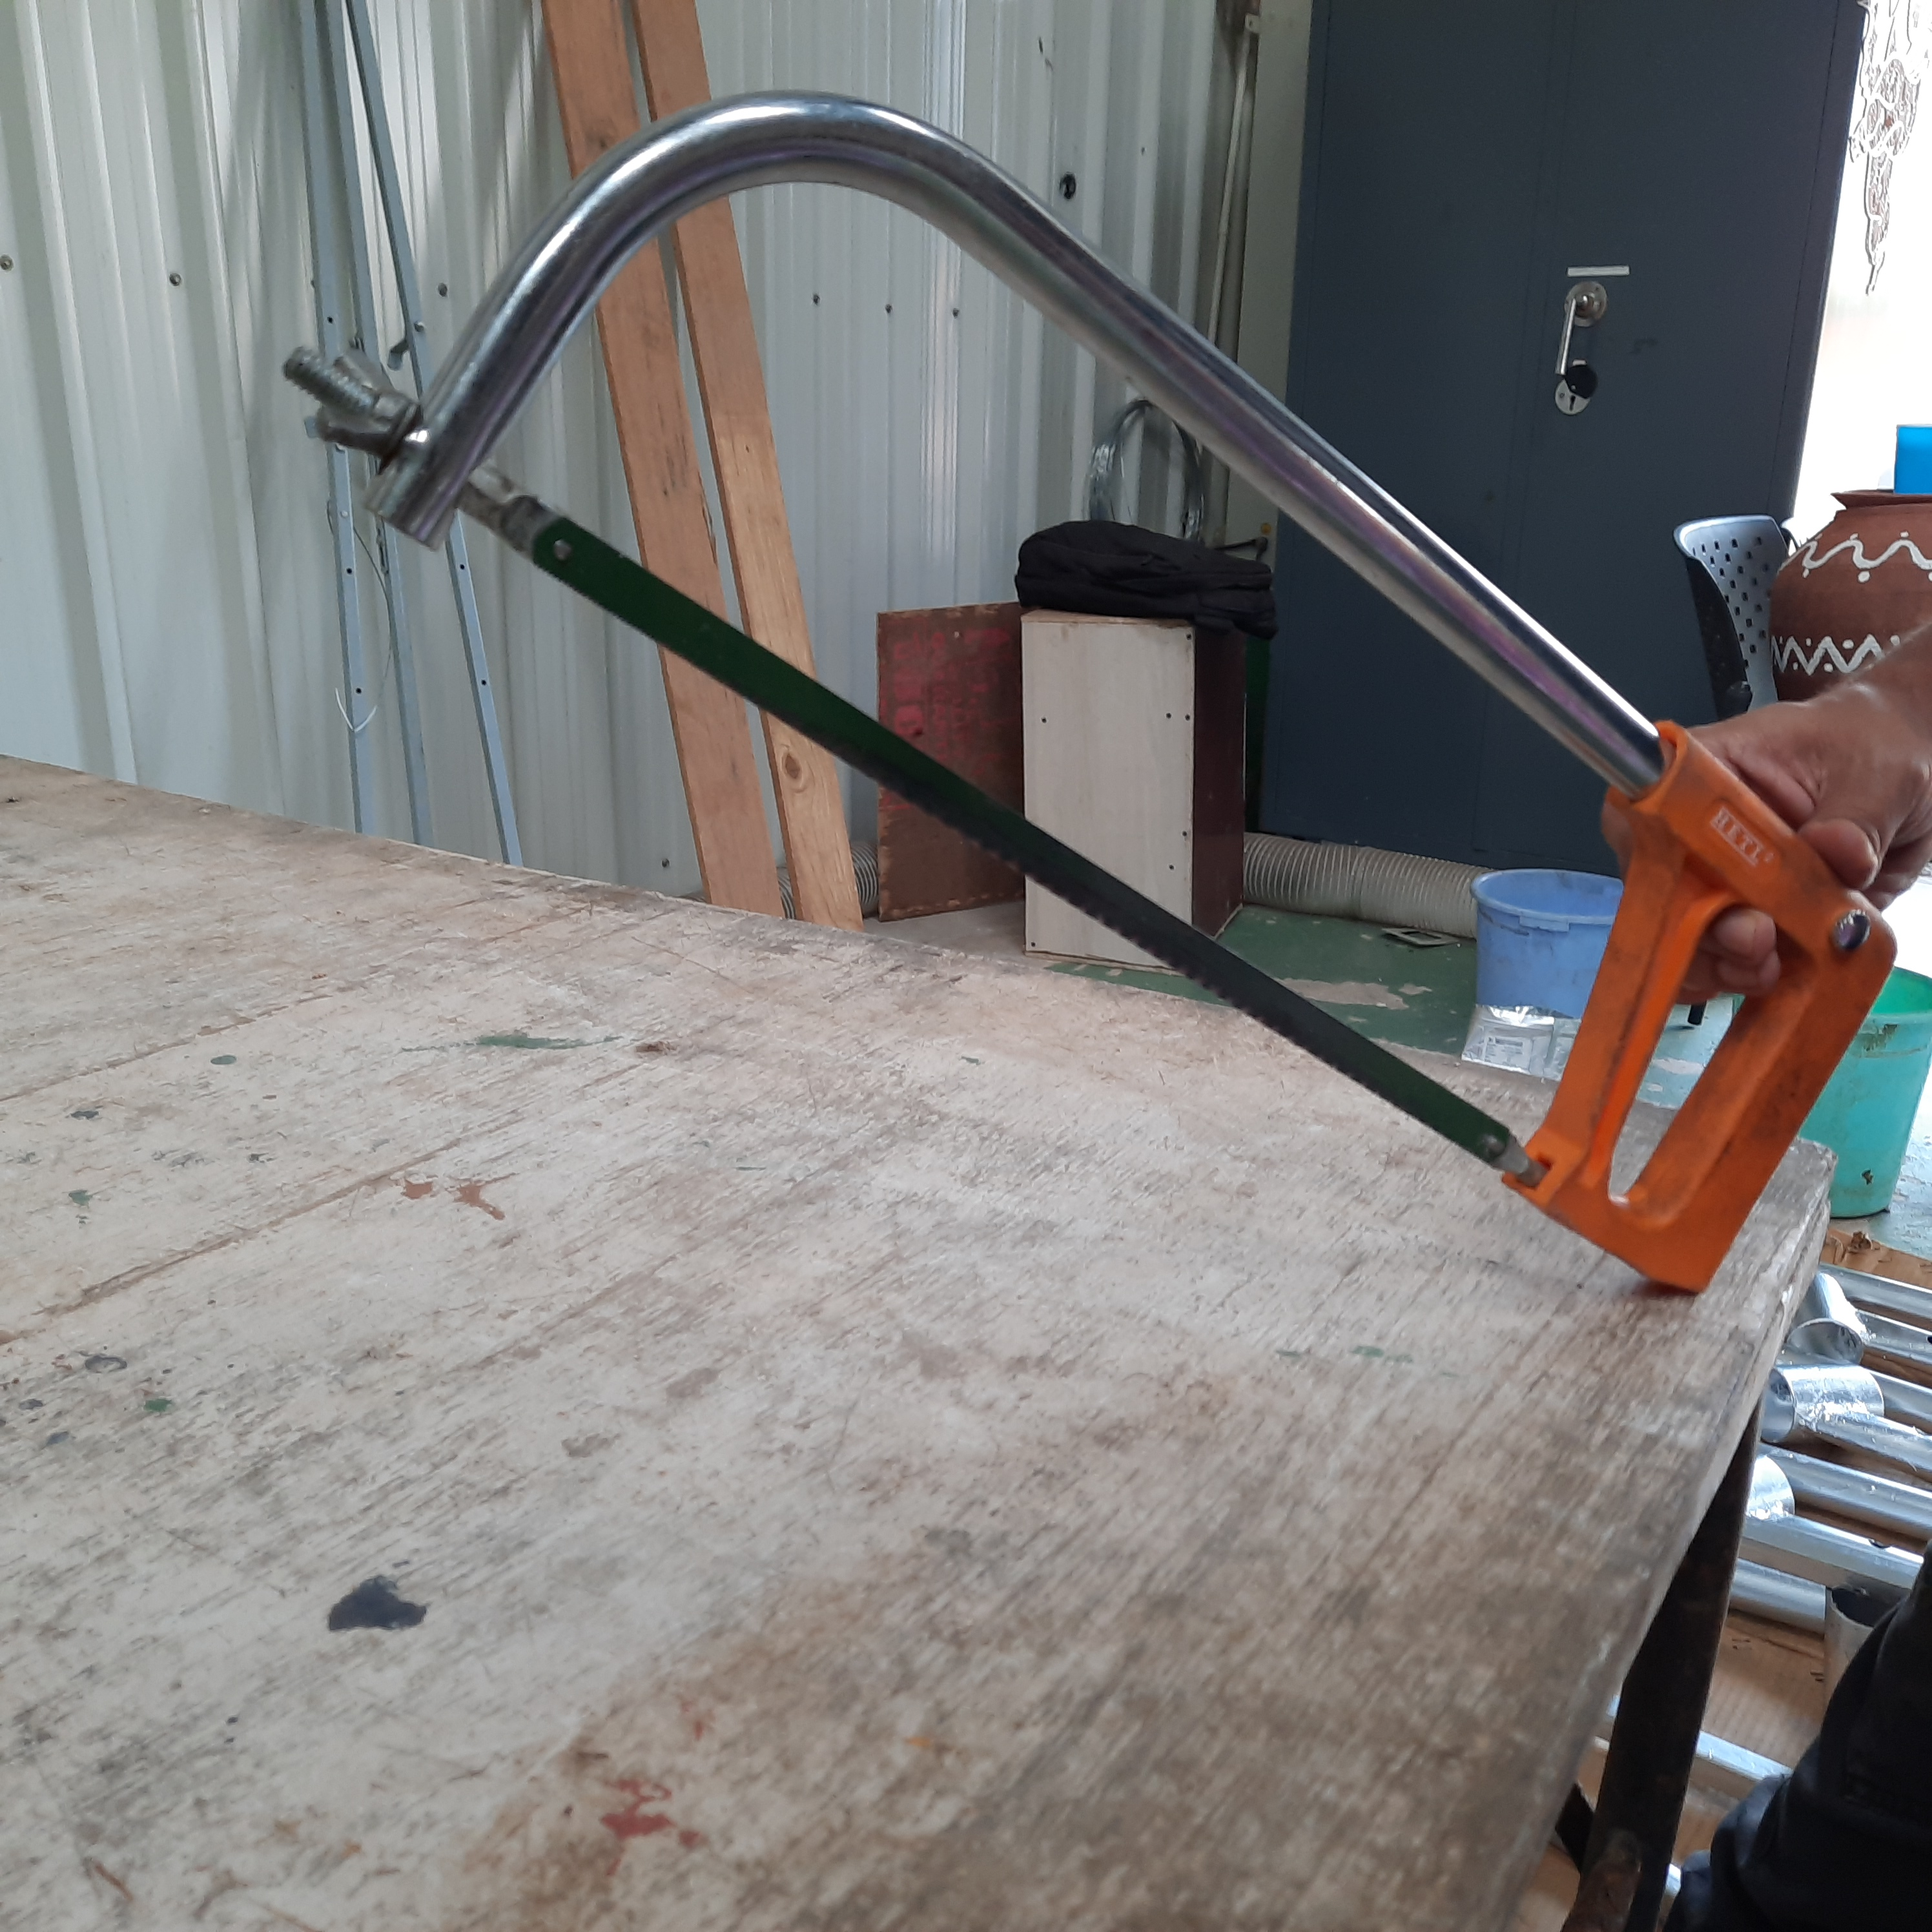Hexaframe: (248, 78, 1914, 1325)
